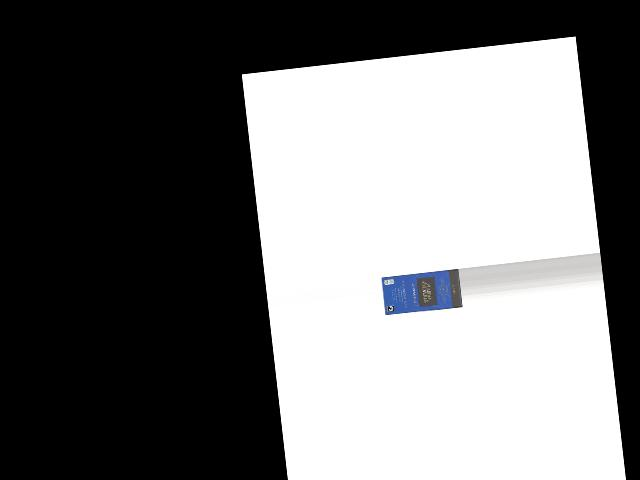chocolate: (382, 268, 462, 315)
